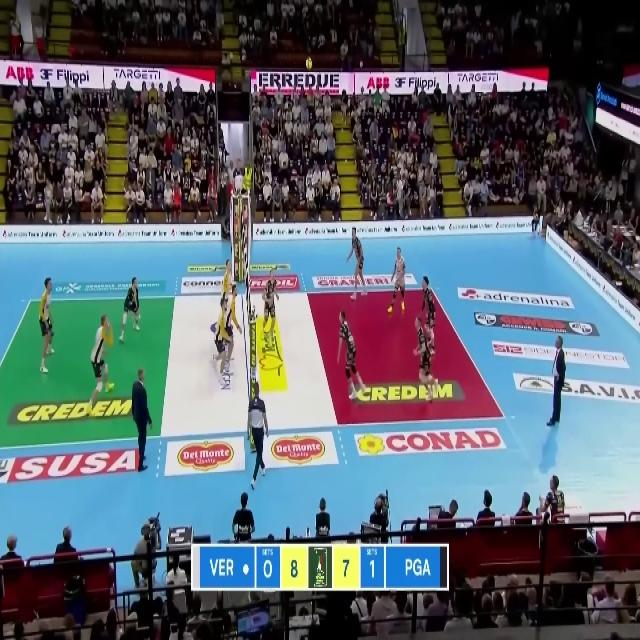volleyball court: (0, 284, 503, 444)
